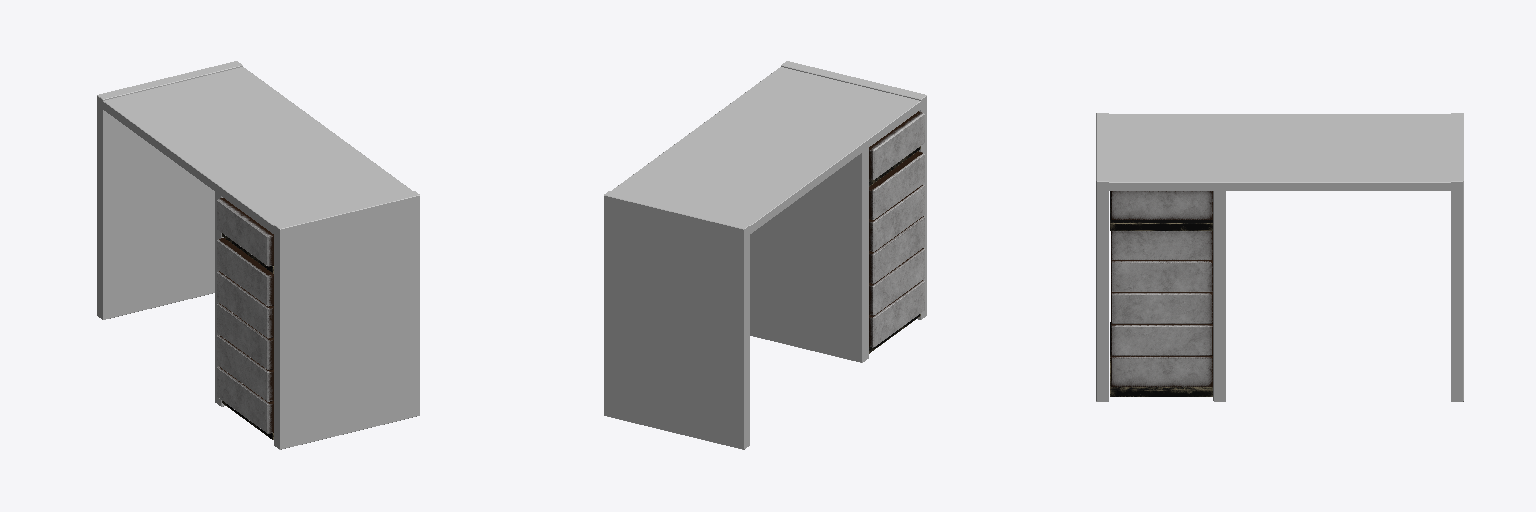
The picture shows the model from 3 angles: view 1: azimuth 30°, elevation 25°; view 2: azimuth 150°, elevation 25°; view 3: azimuth 270°, elevation 25°; orthographic projection.
Parts seen in each view (by area): view 1: pCube3_tabletop_M_0, pCube13_tabletop_M_0, pCube1_tabletop_M_0, pCube8_drawers_0, pCube7_drawers_0, pCube10_drawers_0, pCube12_drawers_0, pCube9_drawers_0, pCube11_drawers_0, pCube4_tabletop_M_0; view 2: pCube1_tabletop_M_0, pCube13_tabletop_M_0, pCube4_tabletop_M_0, pCube8_drawers_0, pCube7_drawers_0, pCube9_drawers_0, pCube10_drawers_0, pCube11_drawers_0, pCube12_drawers_0, pCube3_tabletop_M_0; view 3: pCube13_tabletop_M_0, pCube3_tabletop_M_0, pCube1_tabletop_M_0, pCube9_drawers_0, pCube10_drawers_0, pCube11_drawers_0, pCube12_drawers_0, pCube7_drawers_0, pCube8_drawers_0, pCube4_tabletop_M_0, pCube6_blinn1_0, pCube14_blinn1_0.
Boxes of the visible parts, x1,y1,x2,y2 form: pCube3_tabletop_M_0: [274, 191, 419, 449]; pCube13_tabletop_M_0: [102, 67, 411, 233]; pCube1_tabletop_M_0: [97, 61, 242, 319]; pCube8_drawers_0: [217, 238, 273, 306]; pCube7_drawers_0: [217, 198, 273, 266]; pCube10_drawers_0: [217, 303, 273, 370]; pCube12_drawers_0: [217, 366, 273, 433]; pCube9_drawers_0: [217, 271, 273, 338]; pCube11_drawers_0: [217, 335, 273, 401]; pCube4_tabletop_M_0: [215, 192, 224, 406]; pCube1_tabletop_M_0: [604, 191, 749, 449]; pCube13_tabletop_M_0: [612, 67, 920, 233]; pCube4_tabletop_M_0: [750, 148, 868, 362]; pCube8_drawers_0: [869, 151, 924, 219]; pCube7_drawers_0: [869, 111, 924, 179]; pCube9_drawers_0: [869, 185, 924, 251]; pCube10_drawers_0: [869, 216, 924, 283]; pCube11_drawers_0: [869, 248, 924, 315]; pCube12_drawers_0: [869, 280, 924, 347]; pCube3_tabletop_M_0: [781, 61, 926, 319]; pCube13_tabletop_M_0: [1109, 114, 1450, 190]; pCube3_tabletop_M_0: [1096, 113, 1108, 401]; pCube1_tabletop_M_0: [1451, 113, 1463, 401]; pCube9_drawers_0: [1111, 260, 1212, 291]; pCube10_drawers_0: [1111, 292, 1212, 323]; pCube11_drawers_0: [1111, 324, 1212, 355]; pCube12_drawers_0: [1111, 356, 1212, 386]; pCube7_drawers_0: [1111, 191, 1212, 219]; pCube8_drawers_0: [1111, 231, 1212, 259]; pCube4_tabletop_M_0: [1213, 191, 1225, 401]; pCube6_blinn1_0: [1110, 191, 1212, 230]; pCube14_blinn1_0: [1110, 322, 1212, 396].
Size of the model in its own units: 0.7771 by 1.12 by 1.69.
Materials: 3 (2 with a texture image).